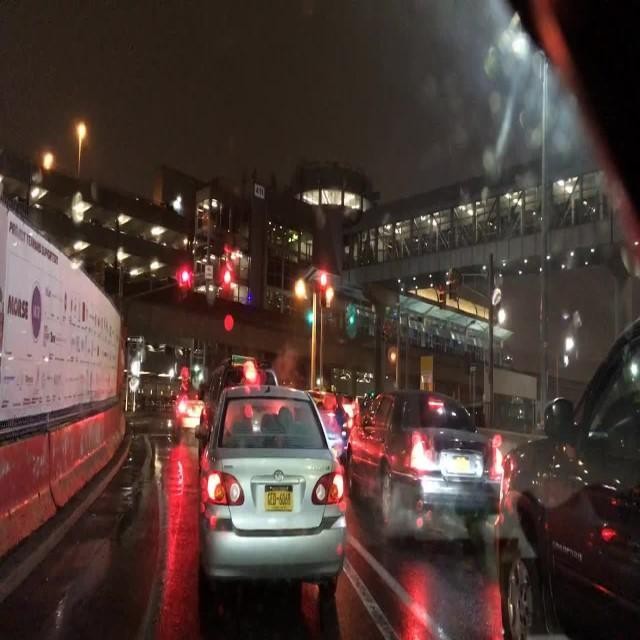normal: (197, 381, 349, 599), (346, 386, 512, 539)
